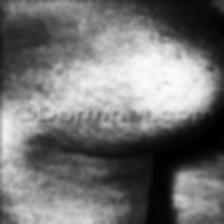Unclassified: (2, 4, 210, 106), (0, 134, 120, 214), (182, 150, 224, 224)
